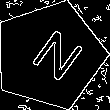N_SW: (17, 23, 82, 87)
